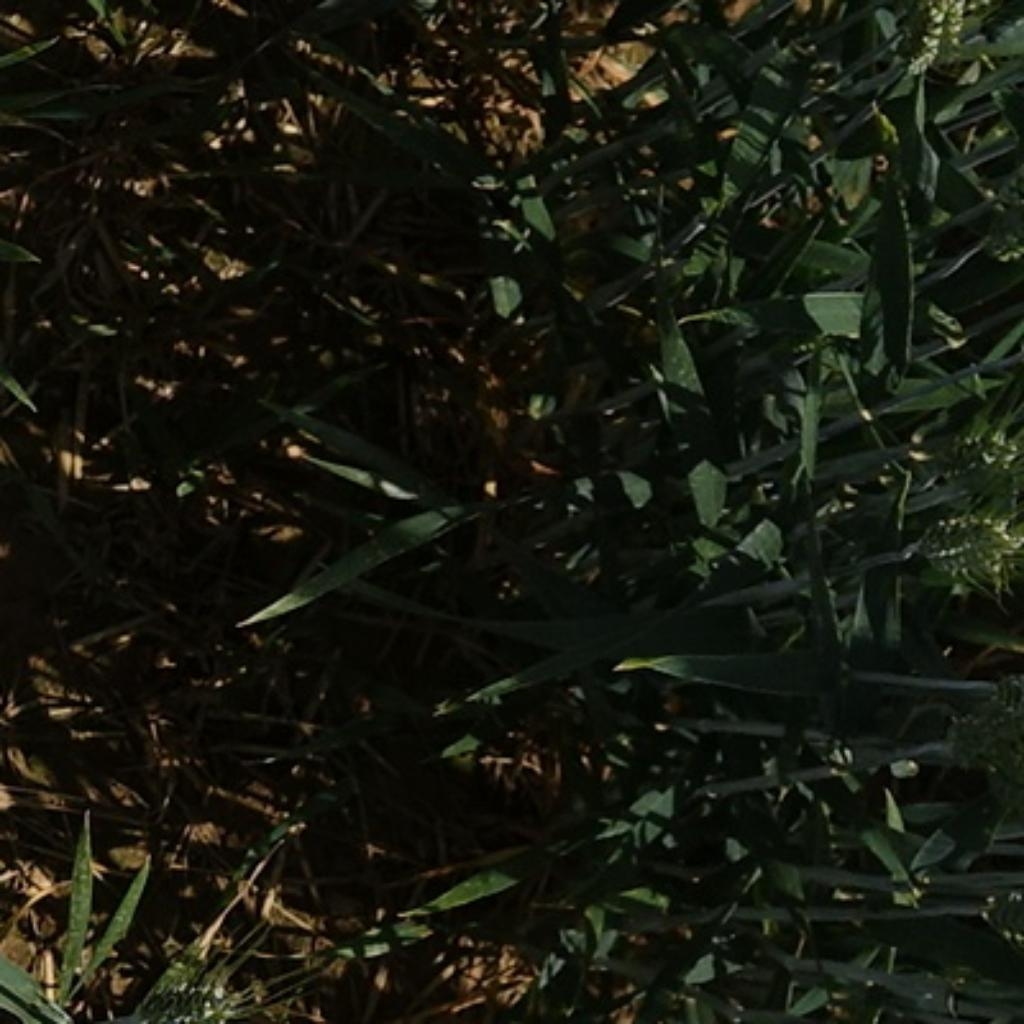0-0: (901, 508, 1024, 578), (130, 971, 252, 1024), (909, 1, 981, 87), (937, 416, 1017, 485), (2, 1021, 107, 1024)
